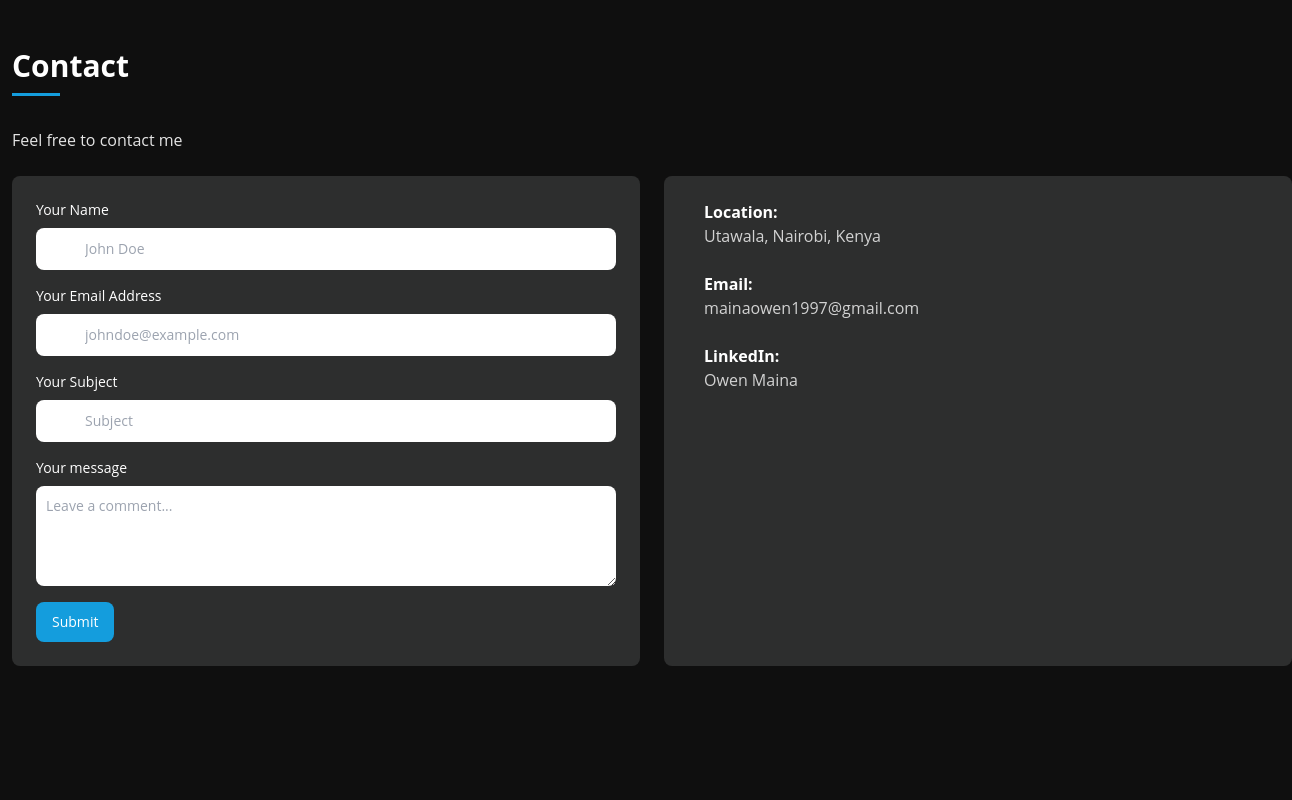
Scenario: Contact › sends the form via EmailJS and shows a success alert
This screenshot has width=1292, height=800.
In the field labelled "Your Name": x=326, y=249 [36,228,616,270], type "Jane"
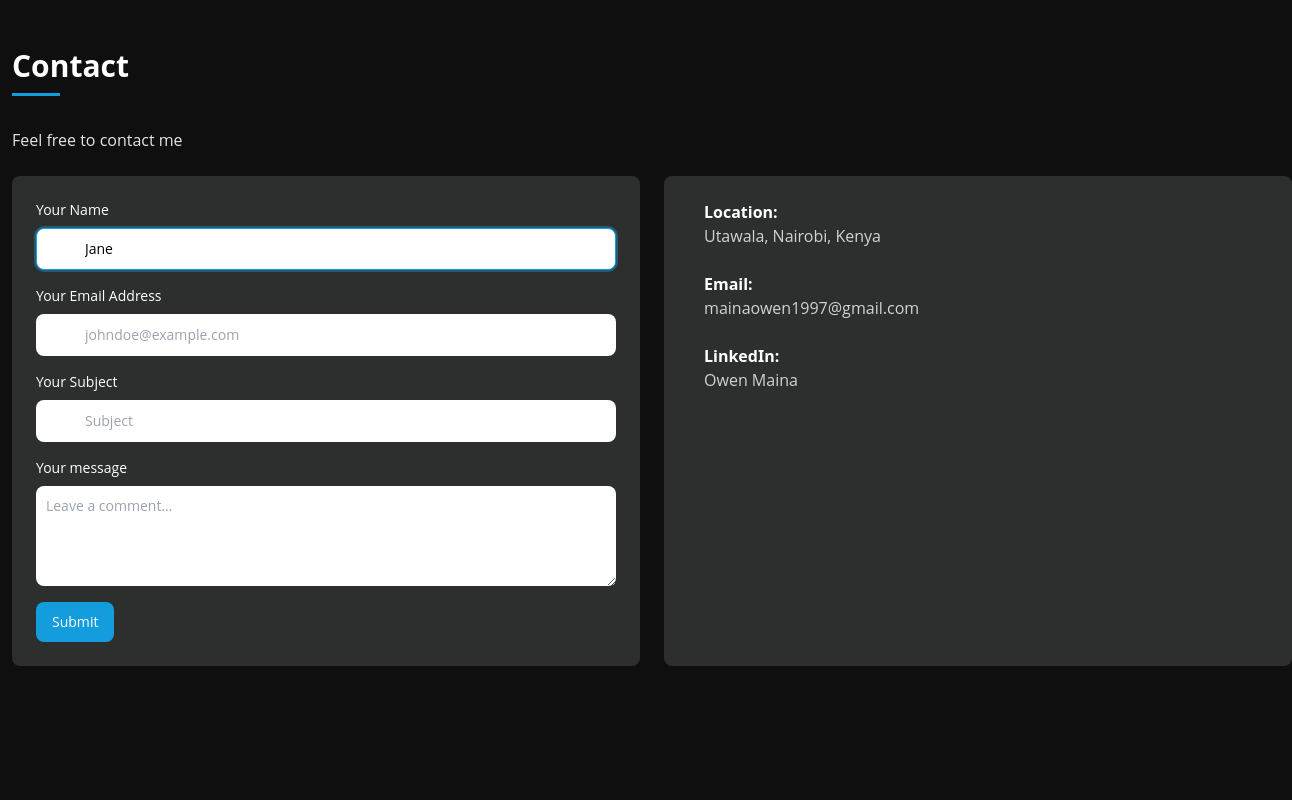
In the field labelled "Your Email Address": x=326, y=335 [36,314,616,356], type "jane@example.com"
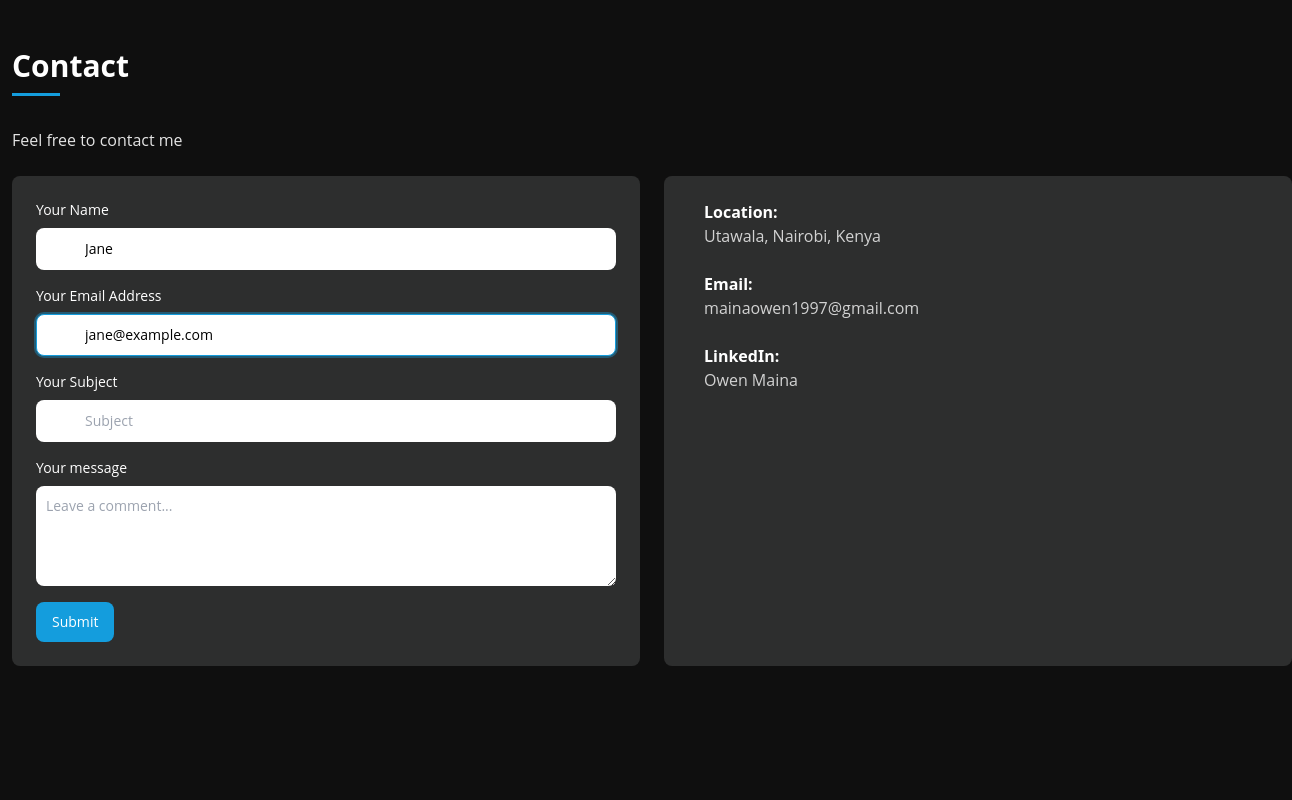
In the text box labelled "Your message": x=326, y=536 [36,486,616,586], type "Hello there"
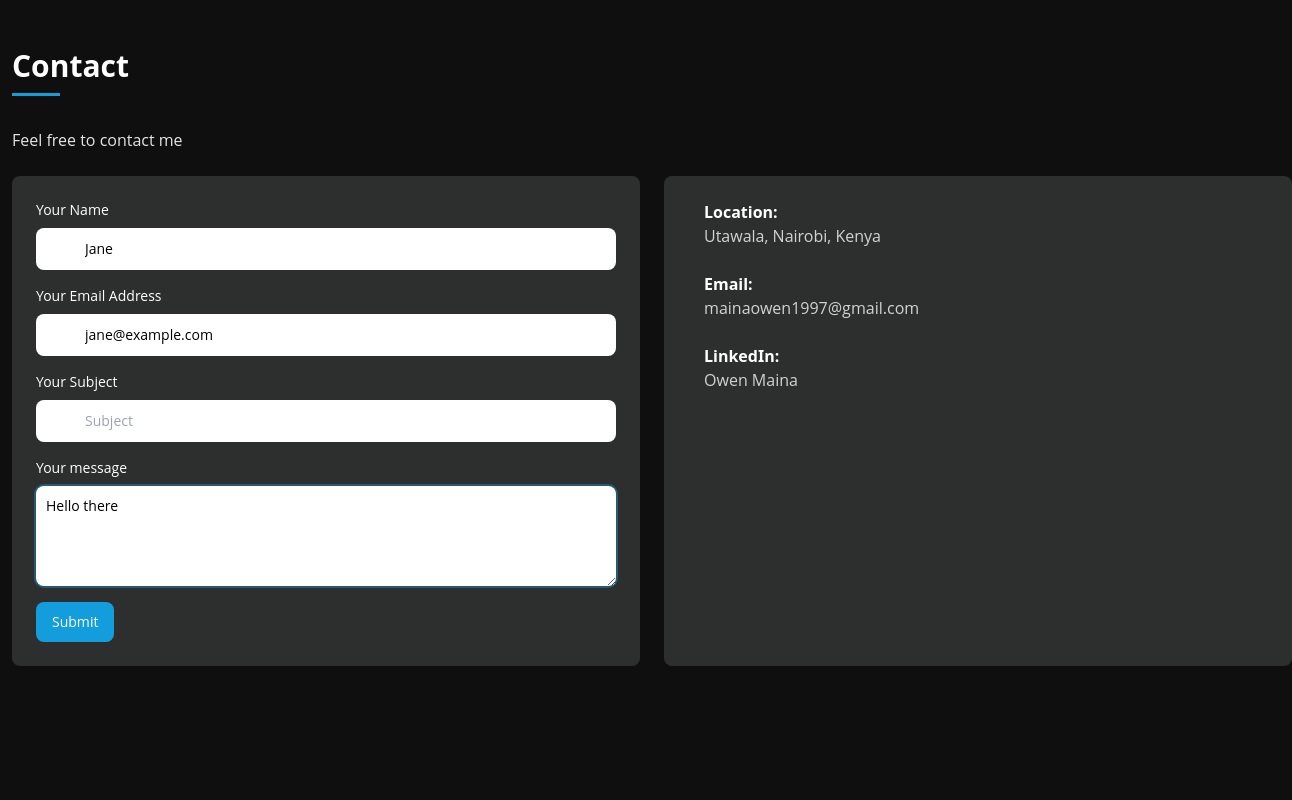
Click the button "Submit": x=75, y=622 [36,602,114,642]
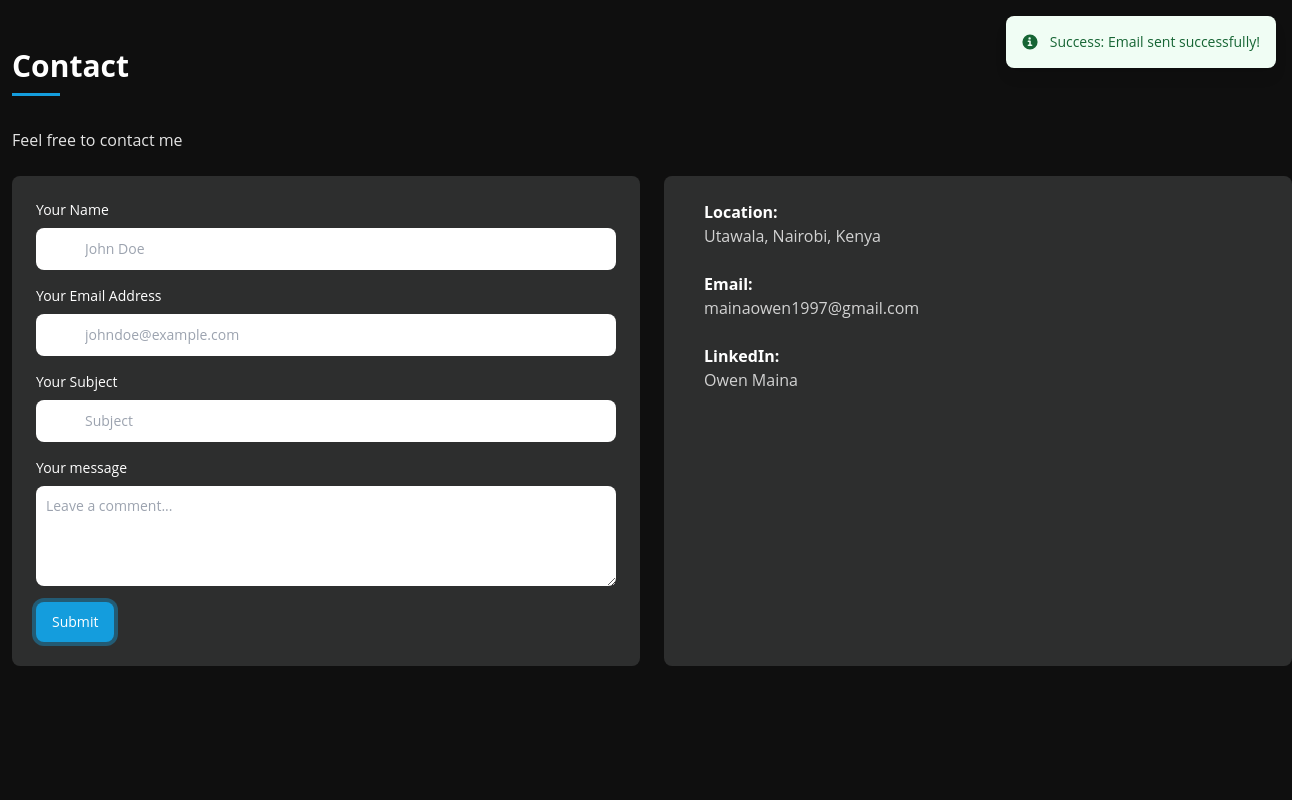
Result: the message shows "Email sent successfully!" at [1108,32,1260,51]
